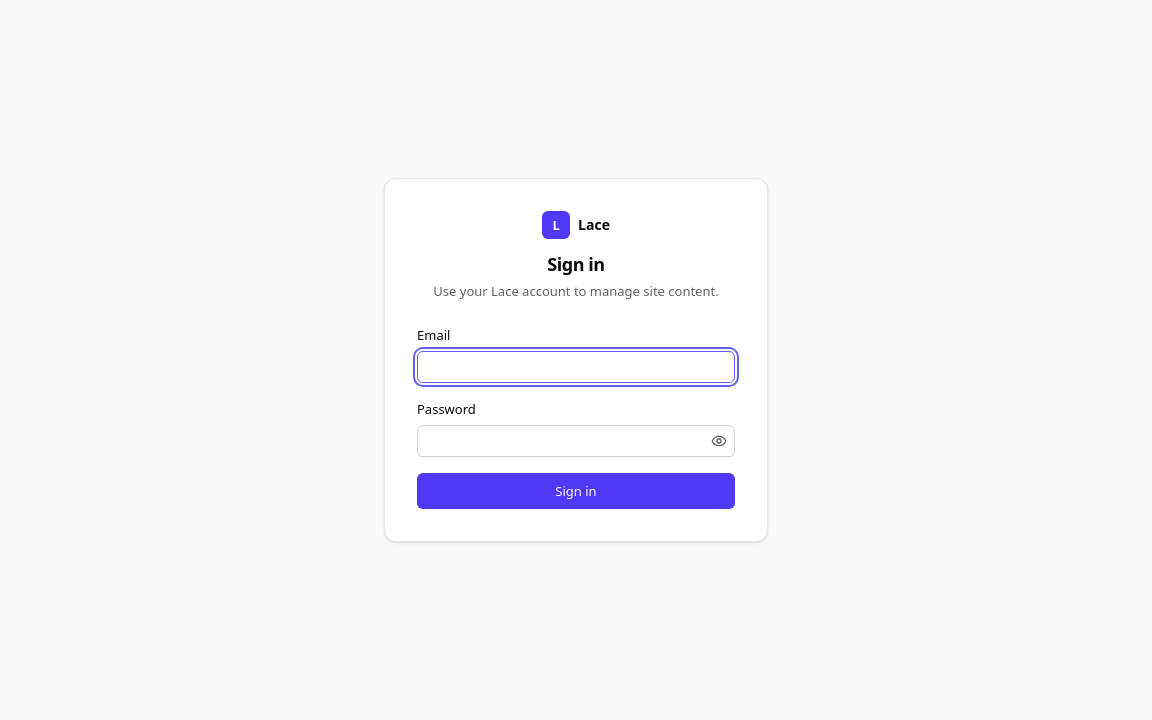
Test: sign-in returns to a safe route and sign-out clears the session
Type "editor@example.test" into the field labelled "Email" at (576, 367), box [417,351,735,383]
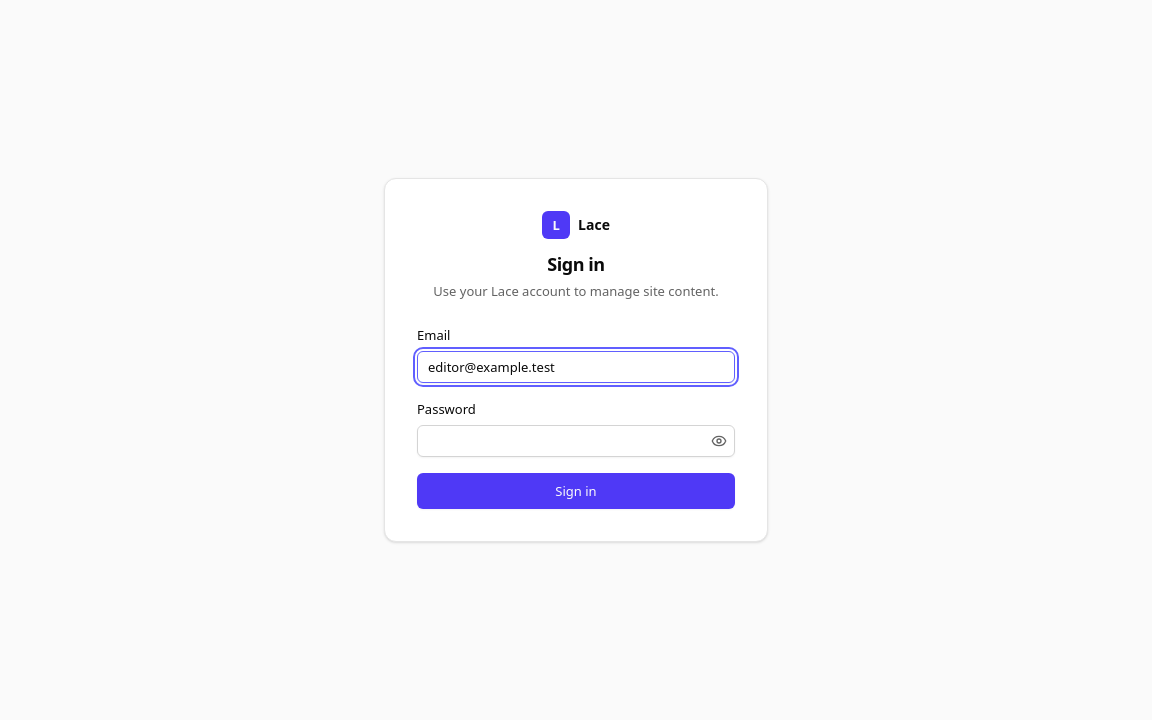
Type "correct horse battery staple" into the password field labelled "Password" at (576, 441), box [417,425,735,457]
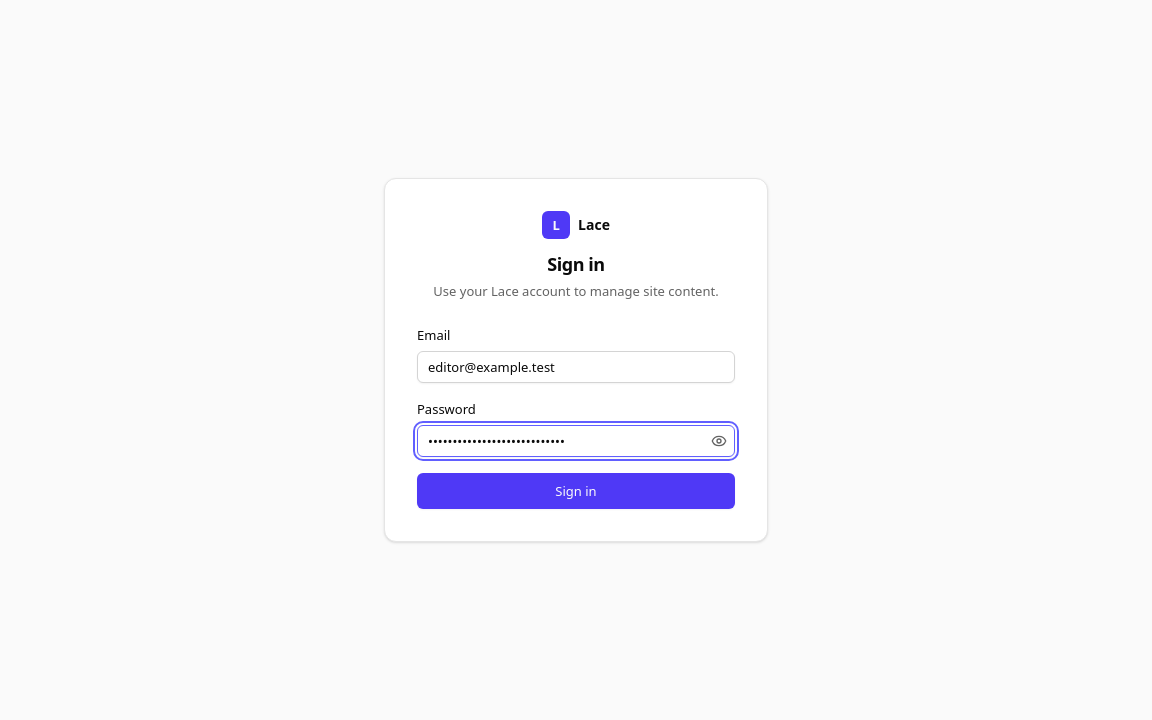
Click the button "Sign in" at (576, 491), box [417,473,735,509]
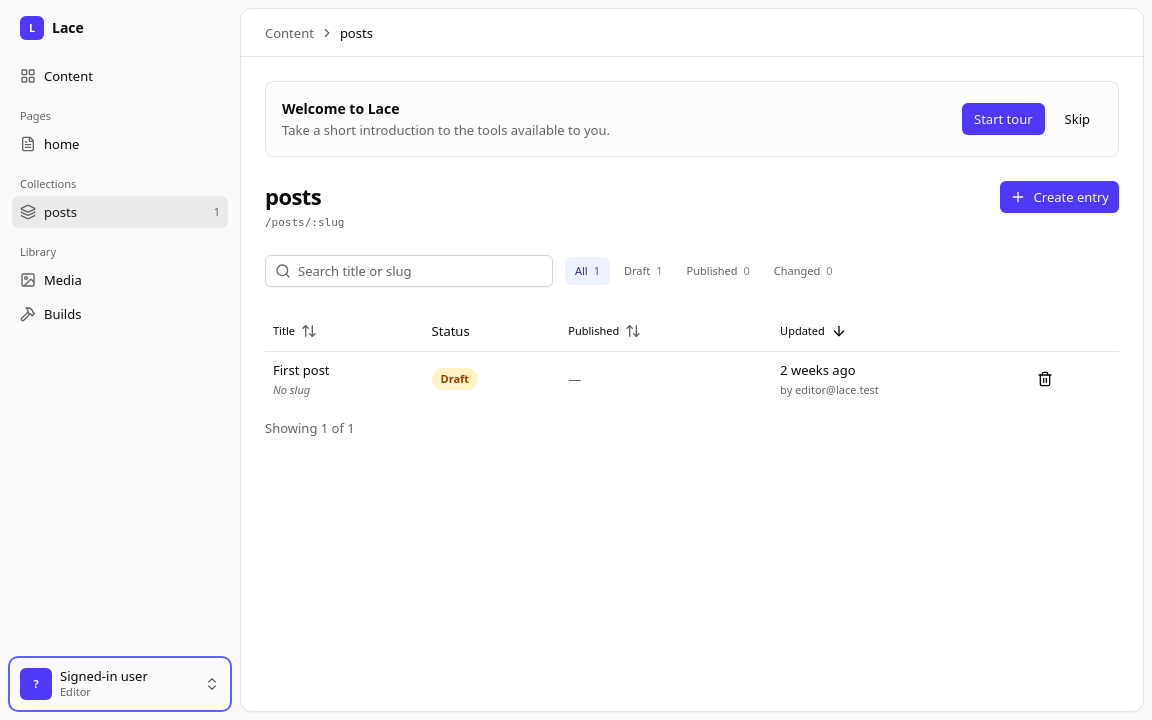
Result: the heading "posts" is shown at [265,181,321,211]
Press Enter
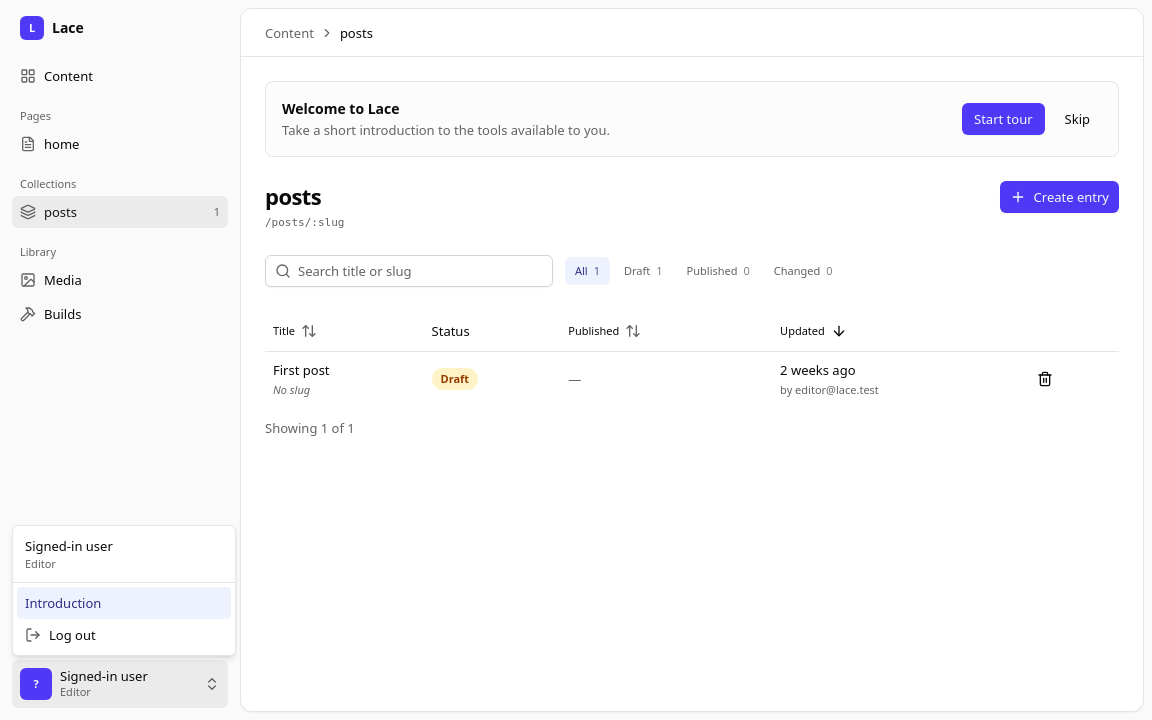
Click the menu item "Log out" at (60, 635), box [25,626,96,644]
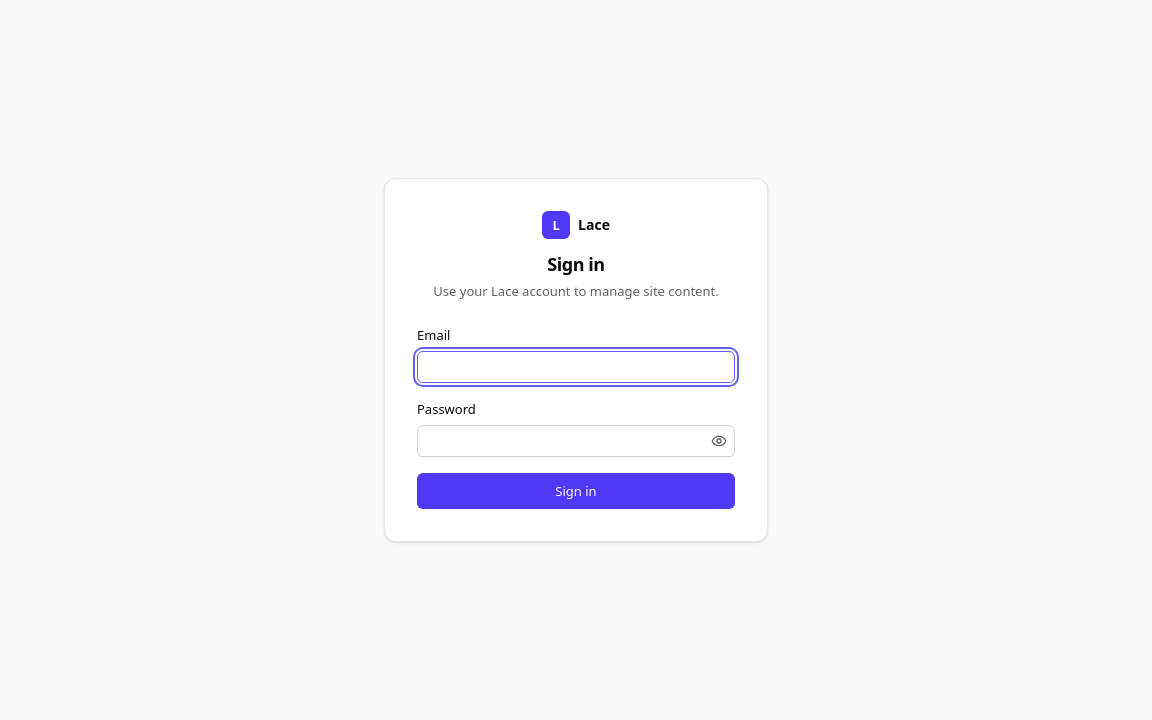
Result: the heading "Sign in" is shown at [547,252,605,276]
